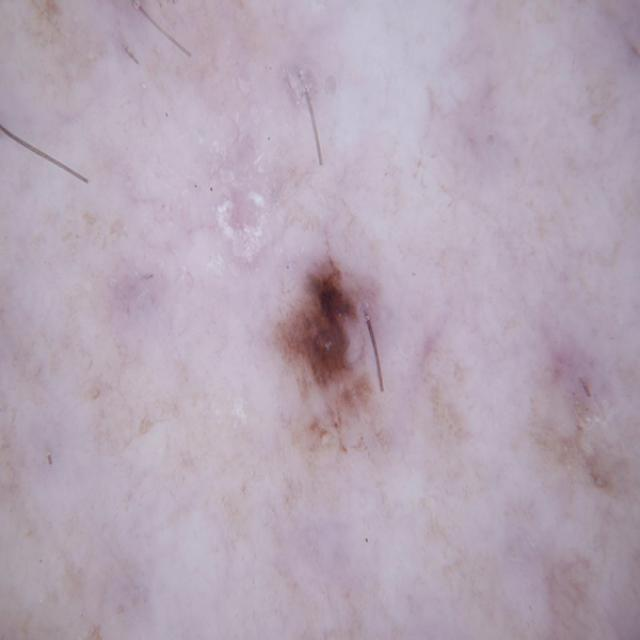Skin-Cancer Pigmented benign keratosis: (186, 164, 587, 556)
